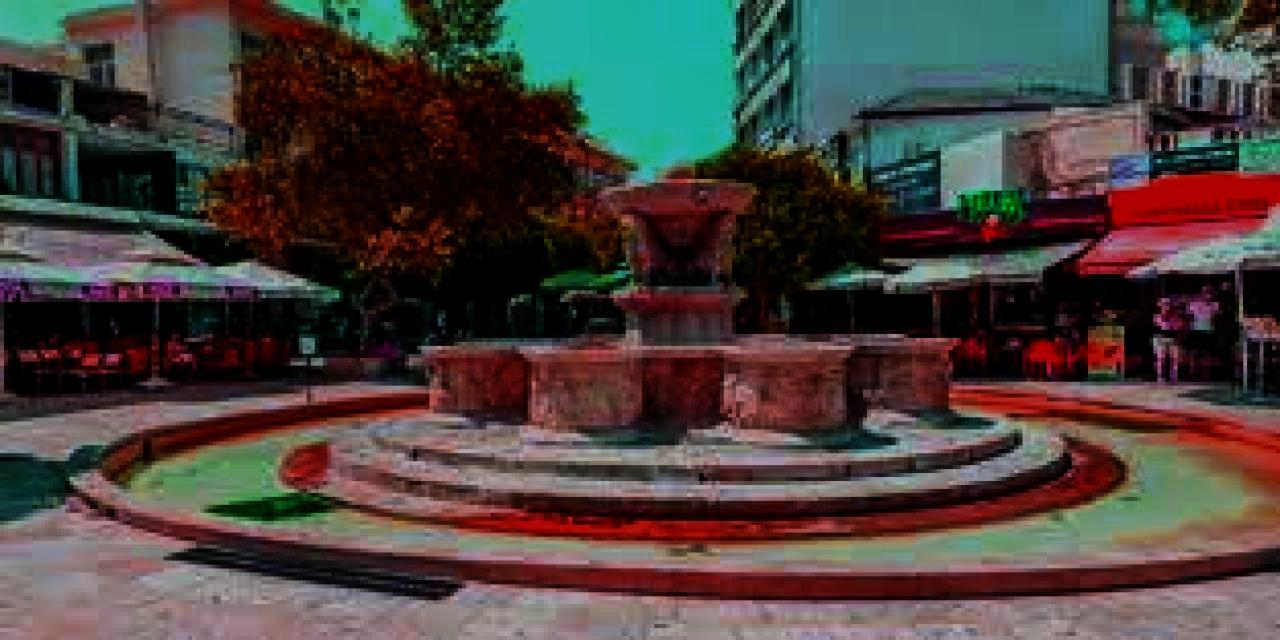Liontaria: (436, 187, 957, 437)
